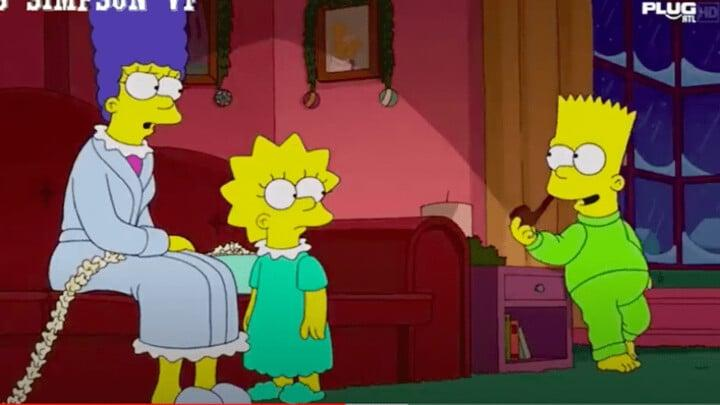Bart: (520, 74, 682, 374)
Lisa: (206, 129, 377, 399)
Marge: (52, 0, 248, 394)
